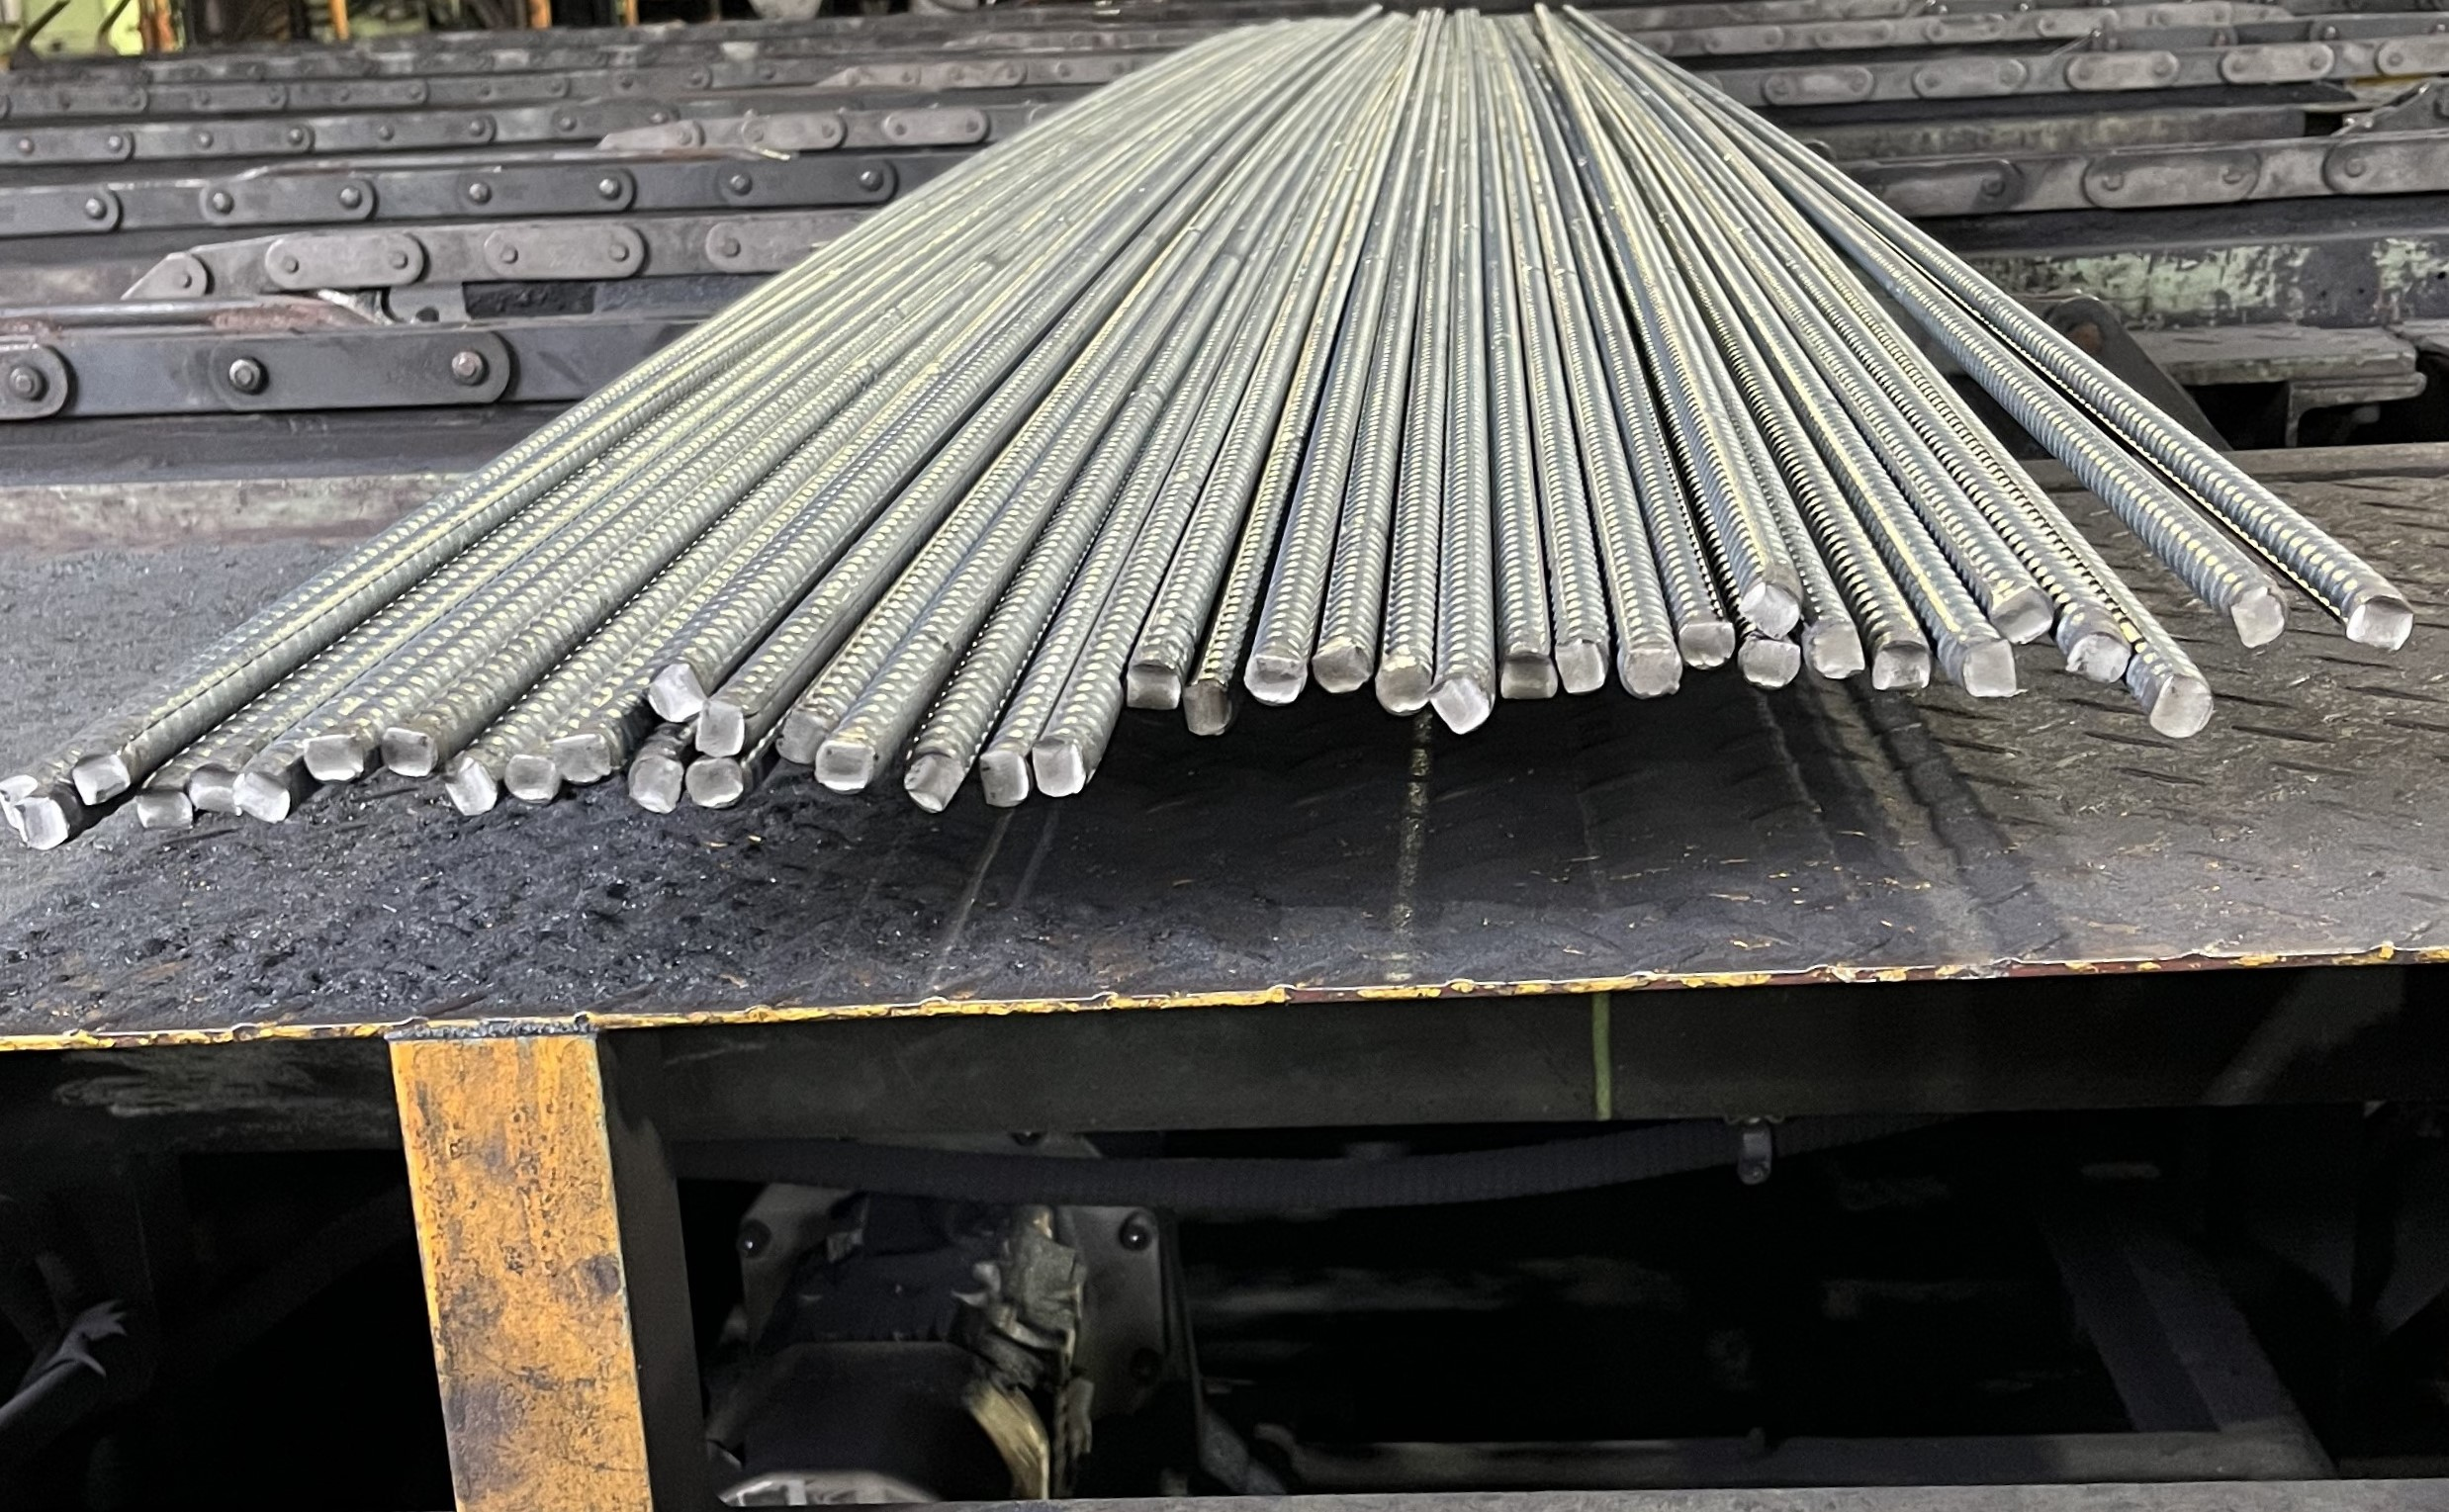rod: (2145, 671, 2216, 739), (1956, 636, 2022, 703), (1427, 673, 1496, 738), (2227, 582, 2292, 650), (899, 752, 969, 815), (2342, 594, 2416, 654), (640, 661, 707, 725), (1989, 586, 2055, 645), (1735, 636, 1805, 692), (1804, 619, 1866, 680), (1029, 734, 1088, 799), (1870, 635, 1933, 694), (68, 750, 133, 808), (1245, 648, 1310, 706), (684, 757, 752, 811), (2064, 631, 2134, 683), (624, 753, 684, 815), (1373, 659, 1434, 718), (443, 753, 500, 816), (812, 738, 875, 795), (1310, 638, 1373, 696), (1739, 580, 1802, 638), (229, 771, 294, 827), (693, 697, 752, 757), (1123, 655, 1183, 715), (1620, 643, 1683, 699), (301, 734, 367, 787), (1553, 638, 1611, 697), (1181, 680, 1238, 738), (14, 795, 70, 853), (555, 731, 614, 785), (978, 750, 1032, 809), (1499, 648, 1559, 703), (378, 725, 439, 778), (773, 704, 826, 766), (185, 760, 243, 815), (504, 750, 562, 802), (131, 785, 198, 830), (1676, 622, 1735, 673), (2, 769, 35, 825)
